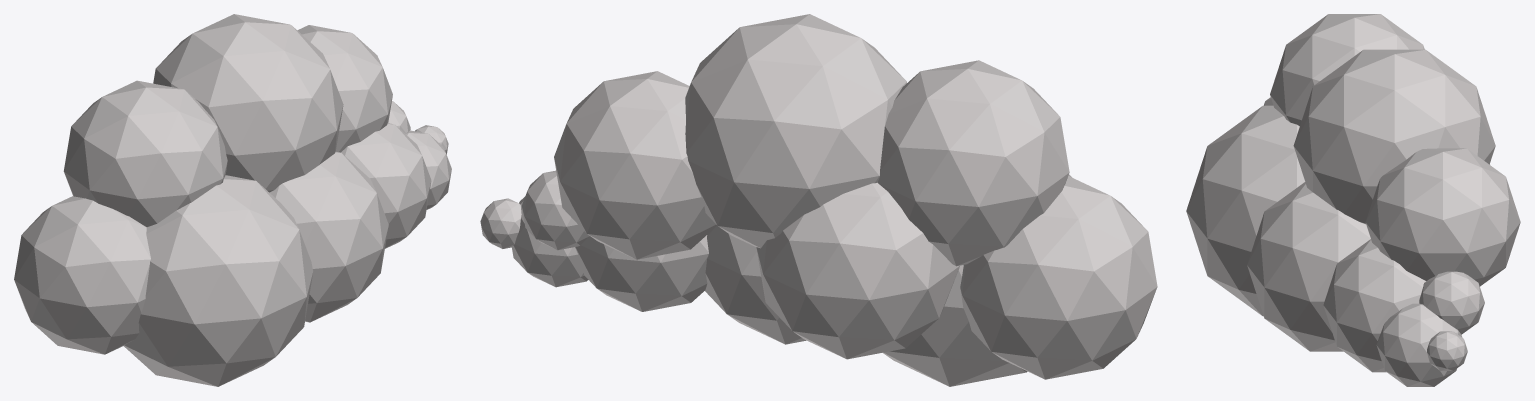
Rendered from Clloud3fbx.fbx.
The picture shows the model from 3 angles, left to right: view 1: azimuth 30°, elevation 25°; view 2: azimuth 150°, elevation 25°; view 3: azimuth 270°, elevation 25°; orthographic projection. The views are drawn at different scales.
Parts seen in each view (by area): view 1: Icosphere.009; view 2: Icosphere.009; view 3: Icosphere.009.
Boxes of the visible parts, box(x1,y1,x2,y2) form: Icosphere.009: box(14, 14, 451, 386); Icosphere.009: box(480, 14, 1157, 386); Icosphere.009: box(1186, 14, 1520, 386).
Bounding box in the file's own units: 56780 × 34114 × 34459.
